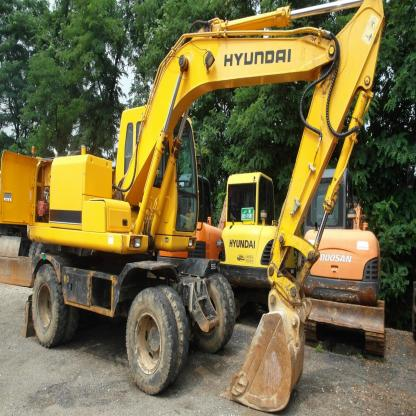excavator: (13, 2, 386, 416)
